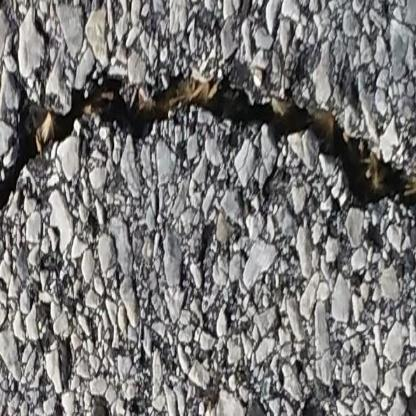Cracks: (0, 71, 416, 250)
